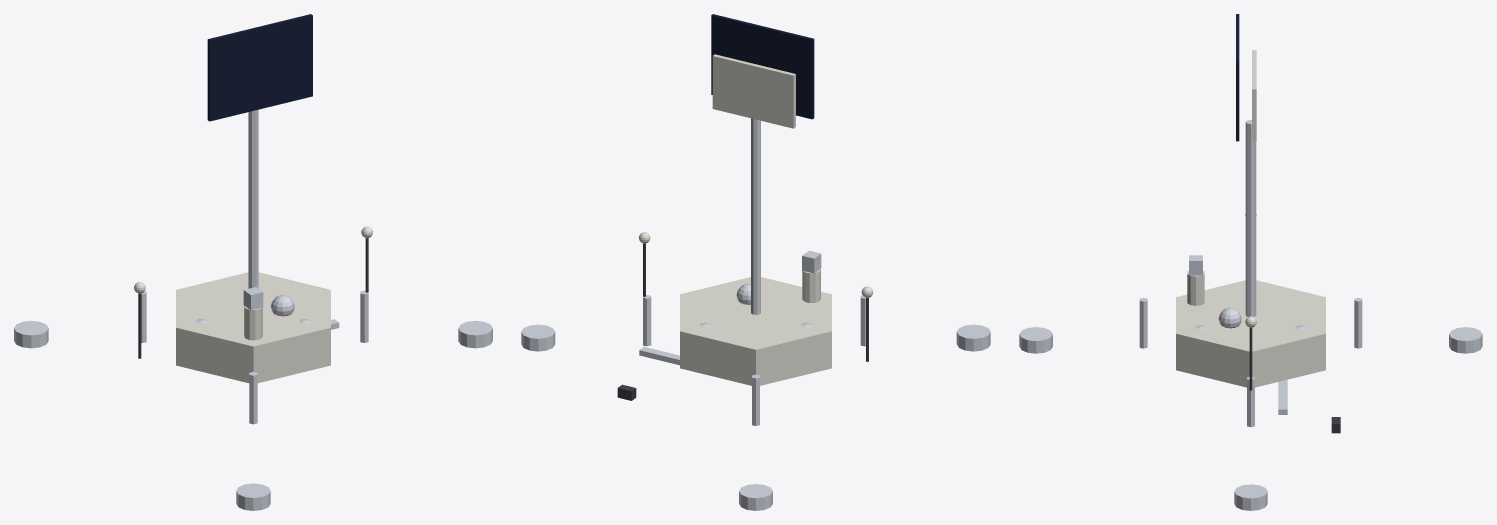
File: surveyor_3_lander.obj
3 renders of one model, left to right at view 1: azimuth 30°, elevation 25°; view 2: azimuth 150°, elevation 25°; view 3: azimuth 270°, elevation 25°, orthographic. The views are drawn at different scales.
Visible parts, largest first — view 1: space_frame, solar_panel, mast, leg_2_footpad, leg_1_footpad, leg_3_footpad, tv_camera_housing; view 2: space_frame, solar_panel, planar_antenna, mast, leg_1_footpad, leg_2_footpad, leg_3_footpad, tv_camera_housing; view 3: space_frame, mast, leg_1_footpad, leg_2_footpad, leg_3_footpad, tv_camera_housing.
Boxes of the visible parts, x1,y1,x2,y2 form: space_frame: (176, 272, 330, 383); solar_panel: (207, 14, 312, 121); mast: (248, 109, 258, 288); leg_2_footpad: (236, 483, 270, 510); leg_1_footpad: (458, 320, 492, 348); leg_3_footpad: (14, 320, 48, 348); tv_camera_housing: (244, 305, 262, 340); space_frame: (680, 277, 831, 385); solar_panel: (711, 14, 814, 119); planar_antenna: (712, 54, 795, 128); mast: (751, 118, 760, 314); leg_1_footpad: (521, 324, 555, 351); leg_2_footpad: (956, 324, 990, 351); leg_3_footpad: (739, 484, 772, 510); tv_camera_housing: (802, 269, 820, 302); space_frame: (1176, 280, 1325, 387); mast: (1245, 120, 1256, 316); leg_1_footpad: (1234, 484, 1267, 510); leg_2_footpad: (1019, 327, 1052, 353); leg_3_footpad: (1449, 327, 1482, 353); tv_camera_housing: (1187, 270, 1204, 305).
Bounding box in the file's own units: 3.52 × 3.45 × 4.01.
